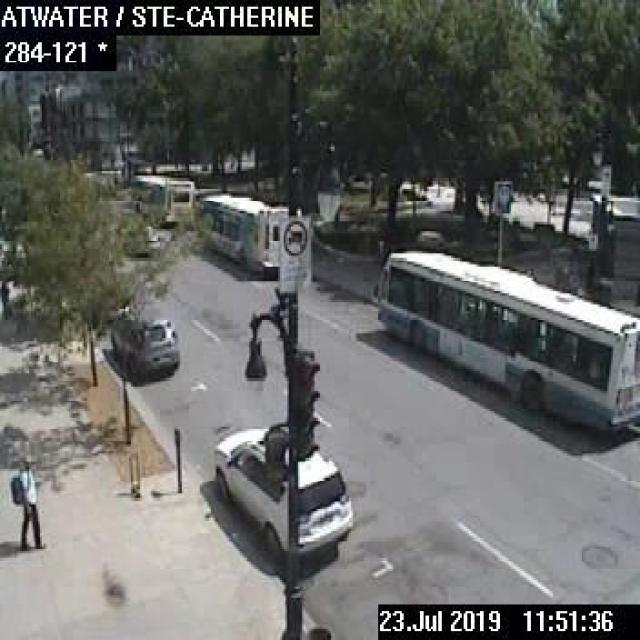bus: (373, 244, 638, 436), (198, 189, 286, 271), (129, 169, 193, 227)
pedestrian: (9, 460, 44, 549)
vehicle: (211, 422, 353, 560), (109, 316, 179, 376)
